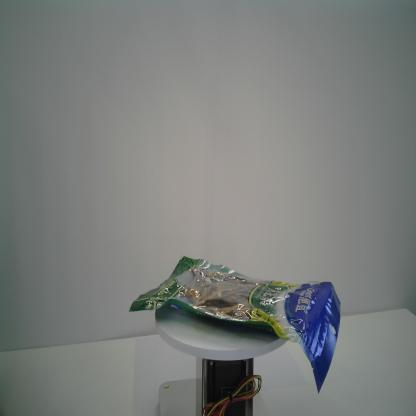Dried Food: (128, 255, 341, 395)
